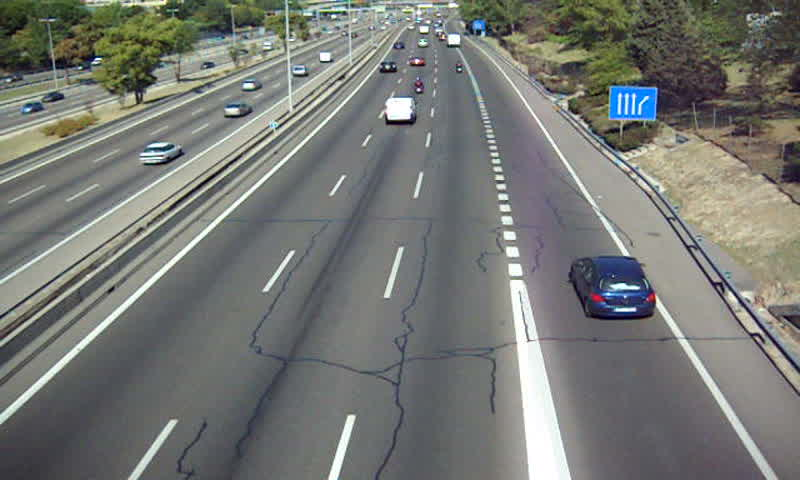car: (569, 254, 655, 318), (378, 60, 396, 73), (408, 56, 425, 68)
motorcycle: (411, 75, 424, 97), (455, 60, 465, 77)
van: (383, 98, 415, 125)
